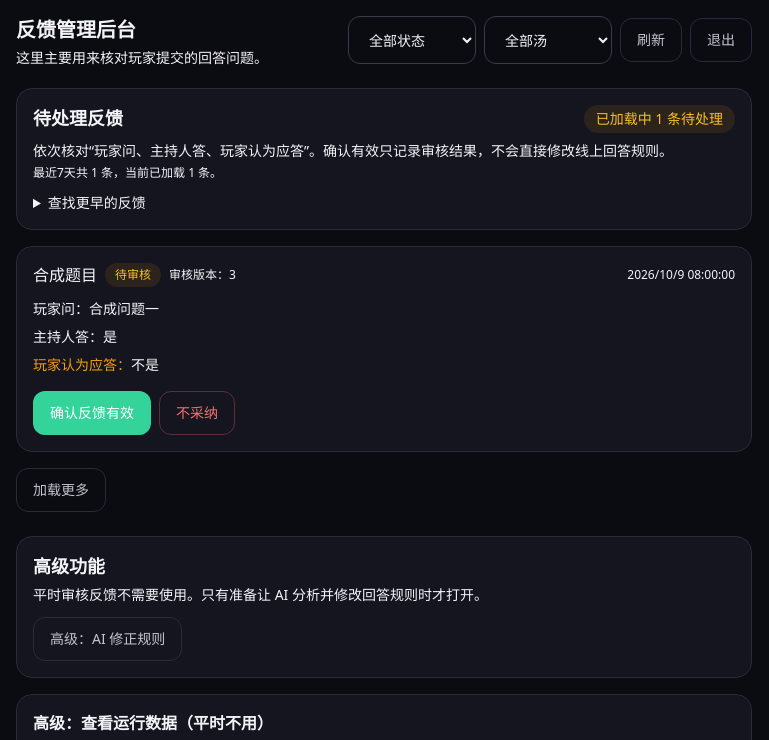
Test: pagination merges a duplicate identity using rowVersion rather than arrival order: 2
Expected: the text "合成问题一" is shown, [89,299,159,318]
Click the button "加载更多": (61, 490) [16,468,106,512]
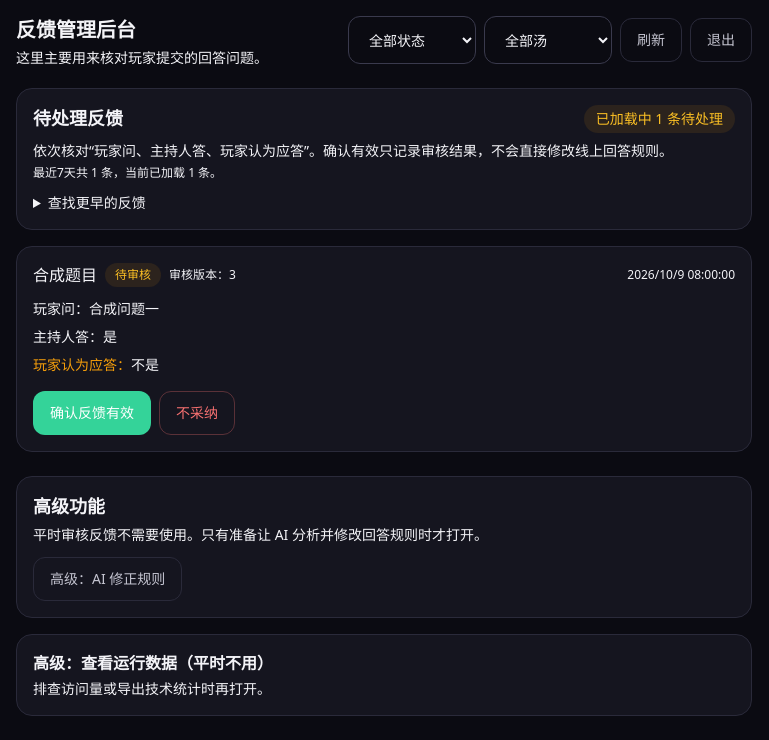
Expected: the text "合成问题一" is shown, [89,299,159,318]
Now the button "加载更多" is gone
